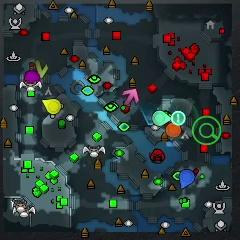Other: (171, 111, 186, 126)
p1: (180, 169, 194, 190)
p2: (152, 110, 172, 126)
p3: (24, 70, 41, 84)
p4: (41, 98, 61, 114)
p5: (166, 122, 183, 138)
x1: (123, 89, 139, 107)
x2: (35, 60, 48, 79)
